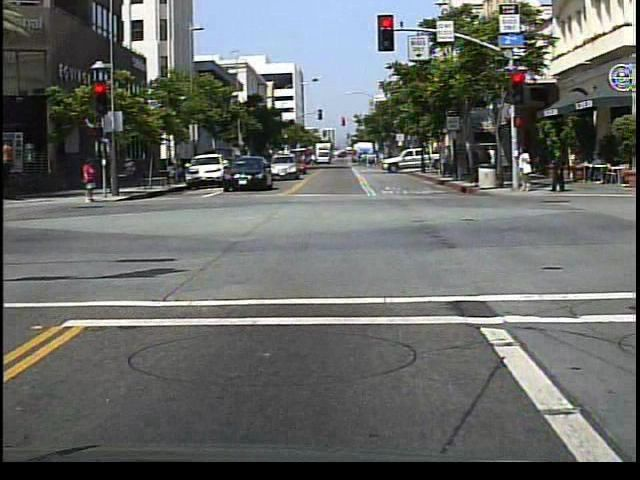person: (82, 157, 103, 209), (515, 143, 536, 193), (547, 144, 568, 193)
